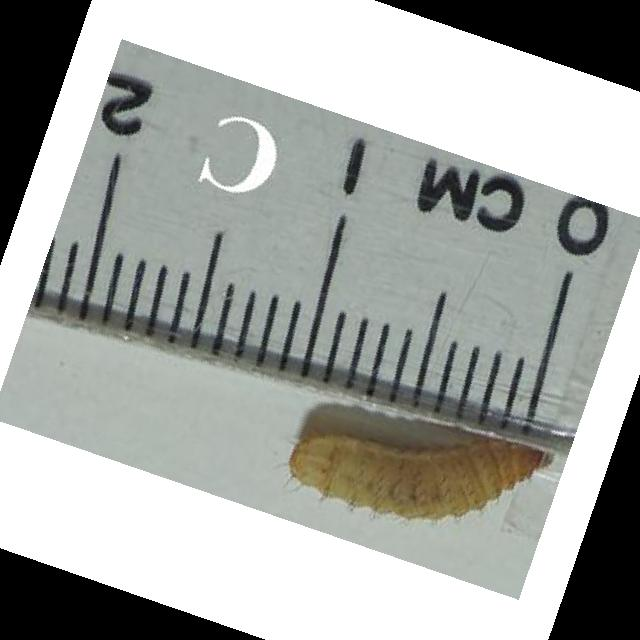Maggot: (279, 437, 557, 515)
